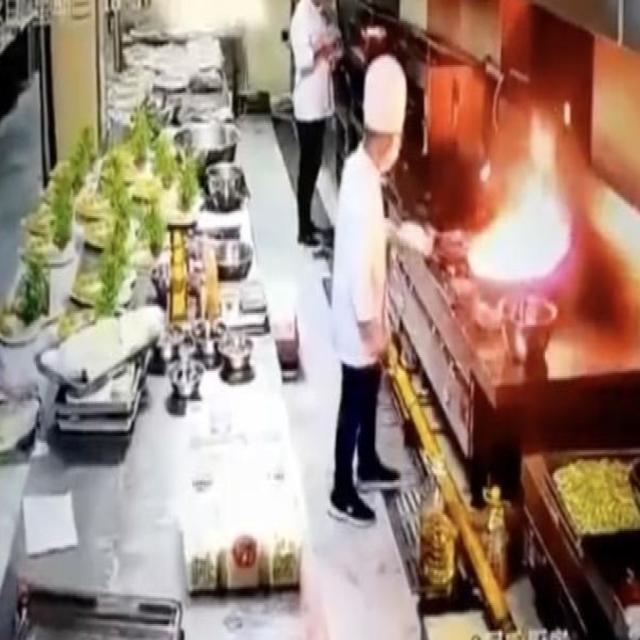smoke: (458, 125, 583, 292)
